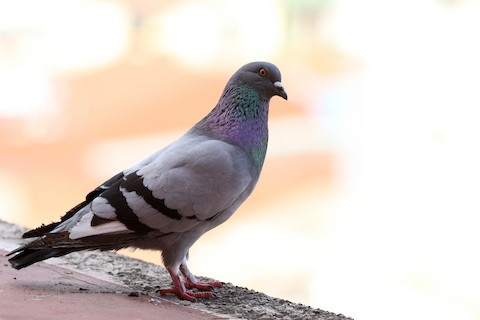pigeon: (5, 59, 292, 306)
